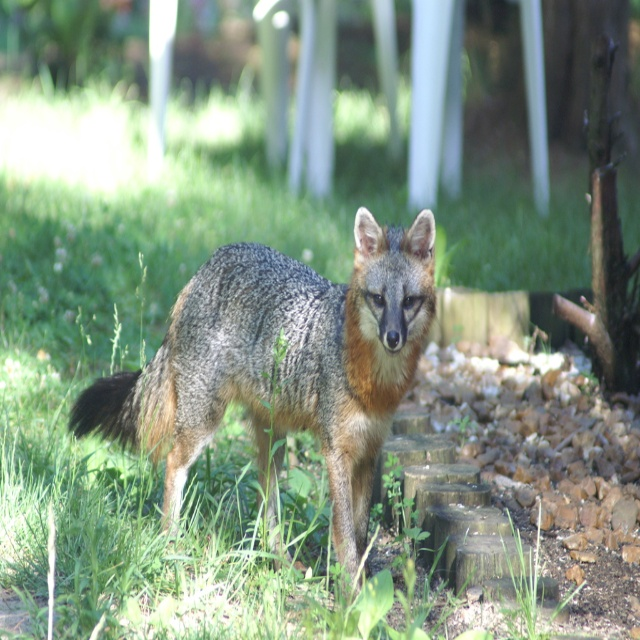Fox: (64, 205, 442, 607)
